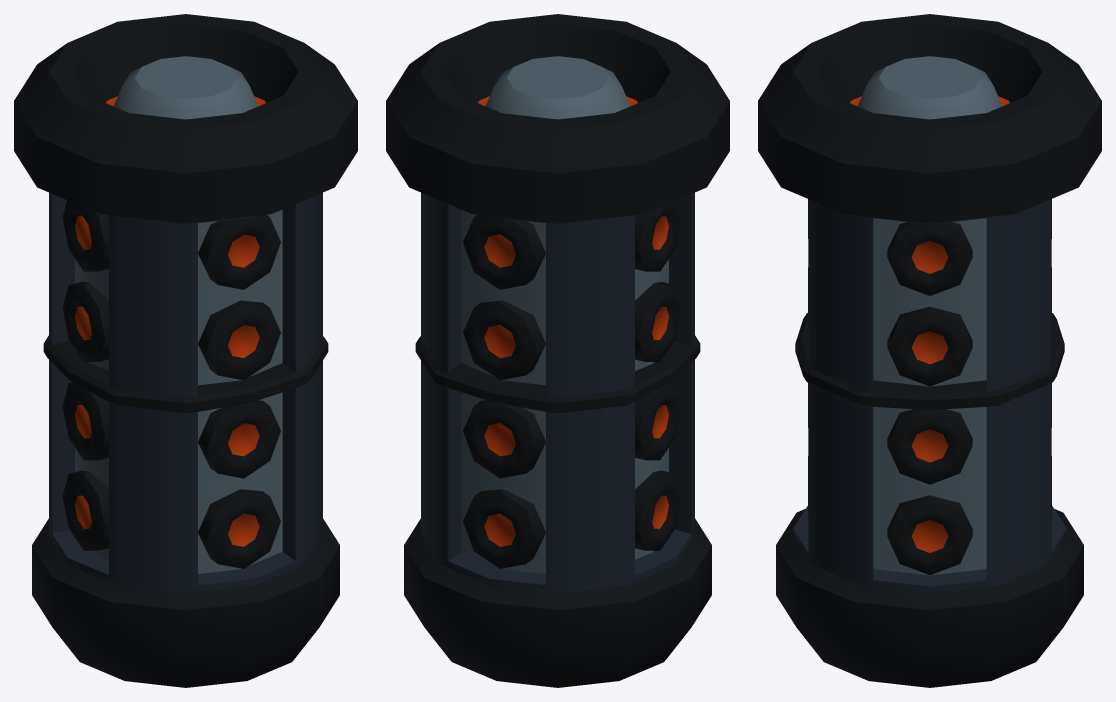
The model's file is OBJ_Battery.fbx.
3 views of the same model, side by side, from view 1: azimuth 30°, elevation 25°; view 2: azimuth 150°, elevation 25°; view 3: azimuth 270°, elevation 25° (orthographic).
Parts seen in each view (by area): view 1: OBJ_Battery; view 2: OBJ_Battery; view 3: OBJ_Battery.
Part boxes in pixels (bbox=[...]): OBJ_Battery: bbox=[14, 14, 357, 687]; OBJ_Battery: bbox=[386, 14, 729, 687]; OBJ_Battery: bbox=[758, 14, 1101, 687].
Bounding box in the file's own units: 25.13 × 45.5 × 25.13.
